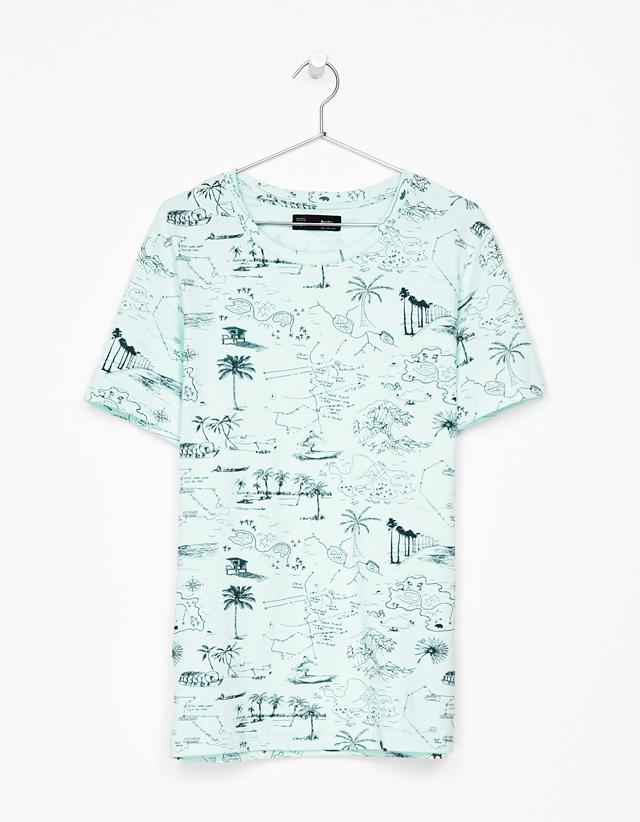teeshirt: (8, 8, 632, 814)
